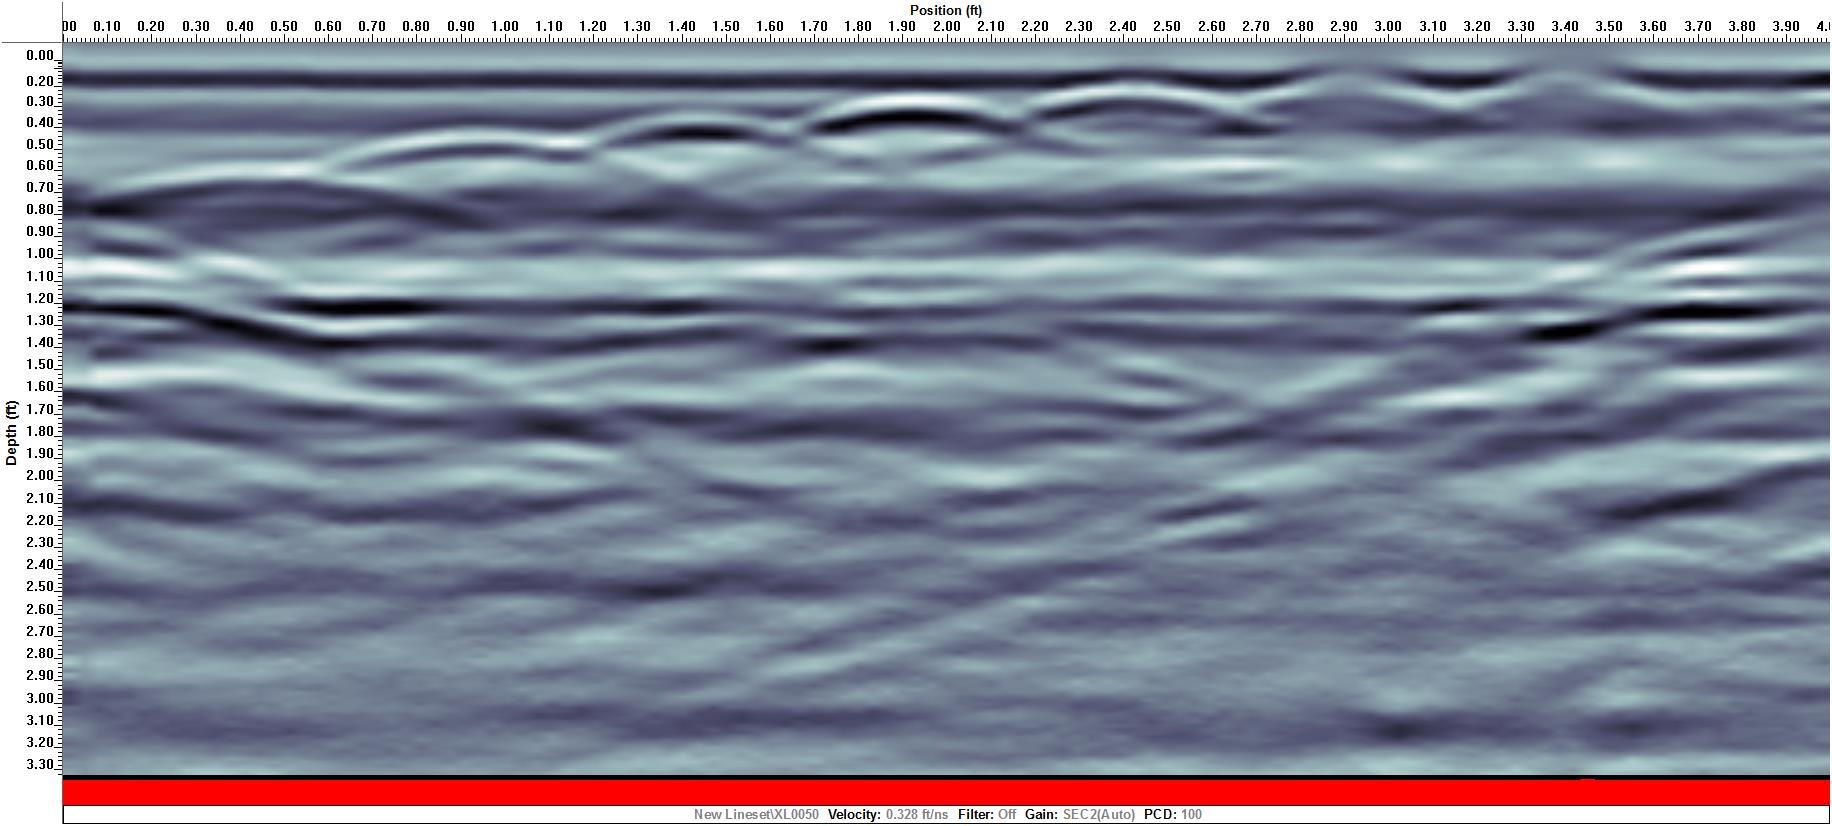hyperbola: (91, 151, 491, 244), (307, 112, 665, 213), (556, 100, 853, 192), (782, 83, 1080, 172), (974, 75, 1290, 157)
